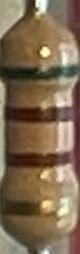Brown: (6, 148, 72, 170), (8, 106, 73, 124)
Green: (0, 62, 80, 82)
Side-Gold: (2, 193, 78, 220)
